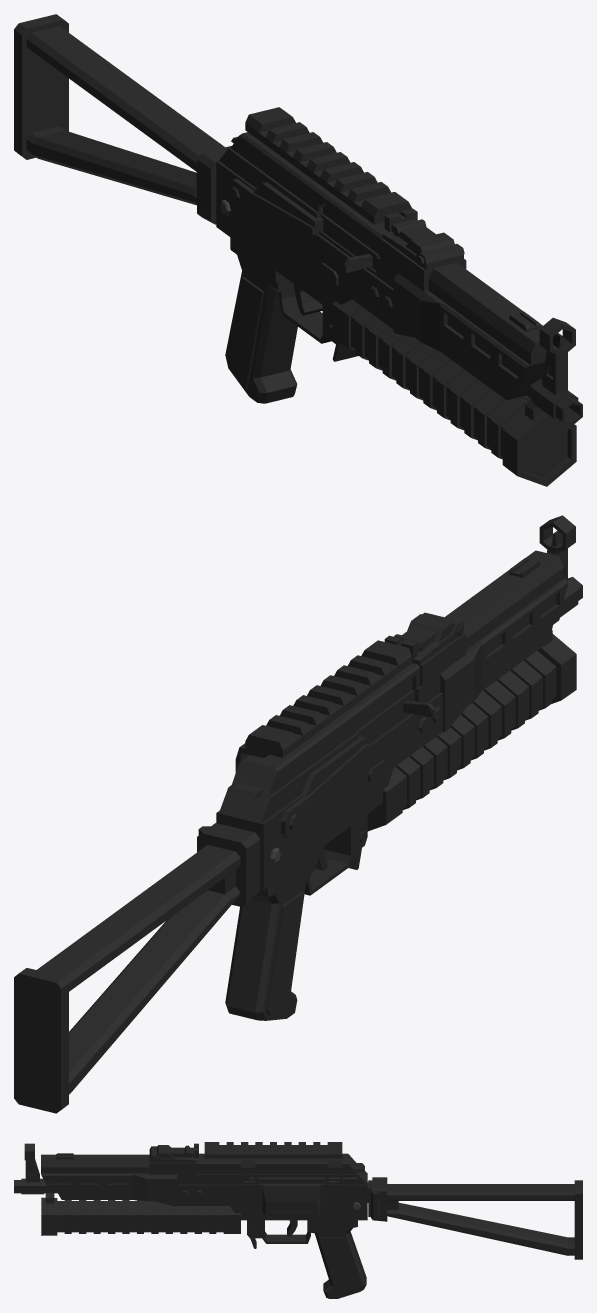
The model's file is SMG_E.fbx.
3 renders of one model, top to bottom at view 1: azimuth 30°, elevation 25°; view 2: azimuth 150°, elevation 25°; view 3: azimuth 270°, elevation 25°, orthographic. The views are drawn at different scales.
Parts seen in each view (by area): view 1: SMG_E_Receiver, SMG_E_Stock, SMG_E_Mag, SMG_E_Grip, SMG_E_Rail, SMG_E_Barrel; view 2: SMG_E_Receiver, SMG_E_Stock, SMG_E_Mag, SMG_E_Grip, SMG_E_Rail, SMG_E_Barrel; view 3: SMG_E_Receiver, SMG_E_Stock, SMG_E_Mag, SMG_E_Rail, SMG_E_Grip, SMG_E_Barrel.
Boxes of the visible parts, x1,y1,x2,y2 form: SMG_E_Receiver: [216, 132, 546, 400]; SMG_E_Stock: [14, 14, 231, 224]; SMG_E_Mag: [332, 299, 576, 486]; SMG_E_Grip: [225, 237, 297, 403]; SMG_E_Rail: [245, 107, 411, 224]; SMG_E_Barrel: [522, 317, 582, 425]; SMG_E_Receiver: [216, 550, 567, 895]; SMG_E_Stock: [14, 823, 260, 1113]; SMG_E_Mag: [367, 630, 576, 831]; SMG_E_Grip: [225, 850, 317, 1020]; SMG_E_Rail: [235, 640, 411, 772]; SMG_E_Barrel: [539, 515, 582, 617]; SMG_E_Receiver: [41, 1143, 368, 1248]; SMG_E_Stock: [368, 1177, 582, 1259]; SMG_E_Mag: [41, 1193, 240, 1235]; SMG_E_Rail: [204, 1142, 342, 1214]; SMG_E_Grip: [307, 1220, 366, 1298]; SMG_E_Barrel: [14, 1143, 57, 1194].
Bounding box in the file's own units: 0.0862 × 0.2873 × 0.9839.
